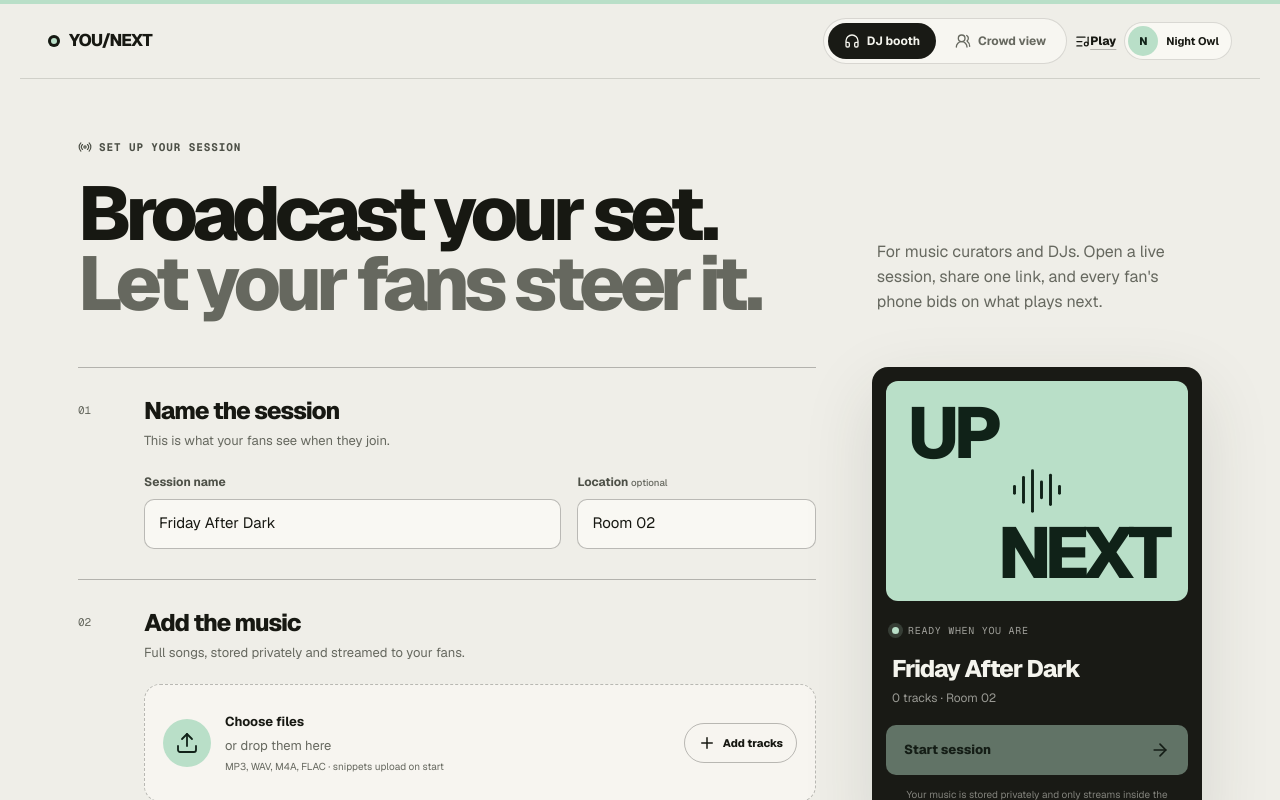
Test case: the profile sheet › opens from the header chip and shows what the room sees
Click the button with aria-label "Edit your profile": coordinates (1178, 41) [1124,22,1232,60]
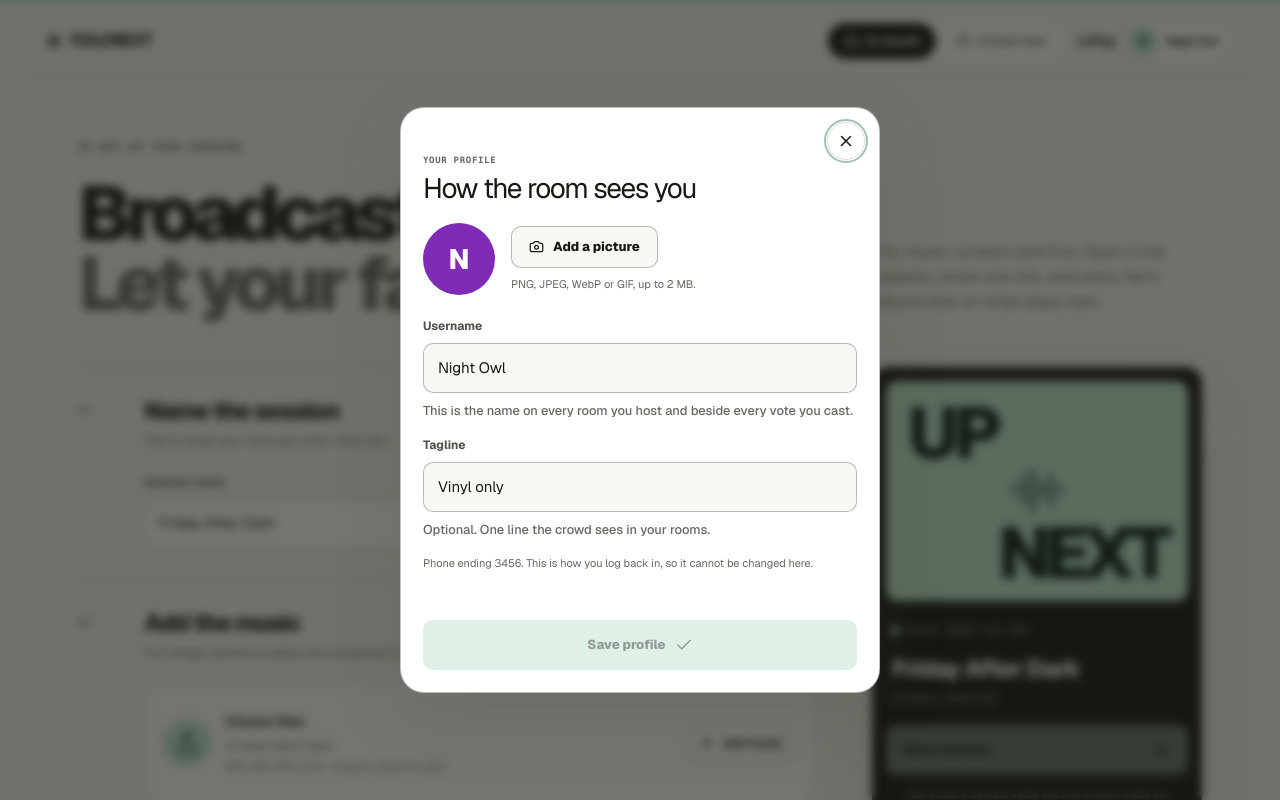
expect the field labelled "Username" holds "Night Owl": met, box [423,343,857,393]
expect the field labelled "Tagline Optional. One line the crowd sees in your rooms." holds "Vinyl only": met, box [423,462,857,512]
expect the text "Phone ending 3456" is shown: met, box [423,555,857,572]
